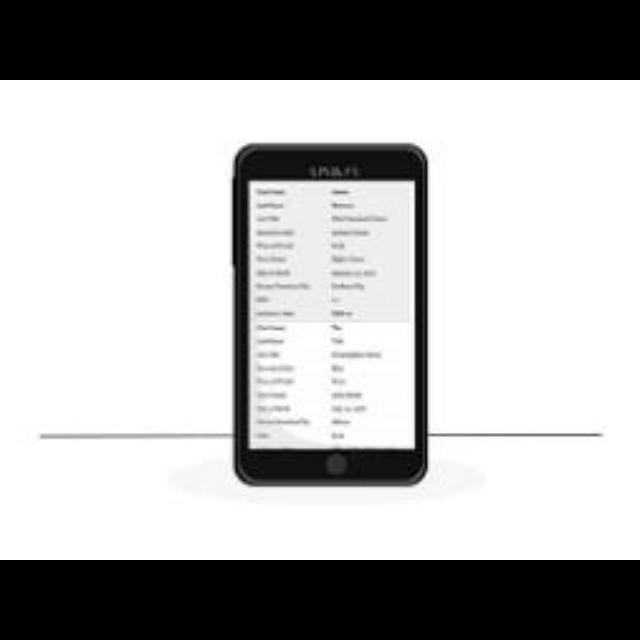phone: (234, 141, 428, 479)
